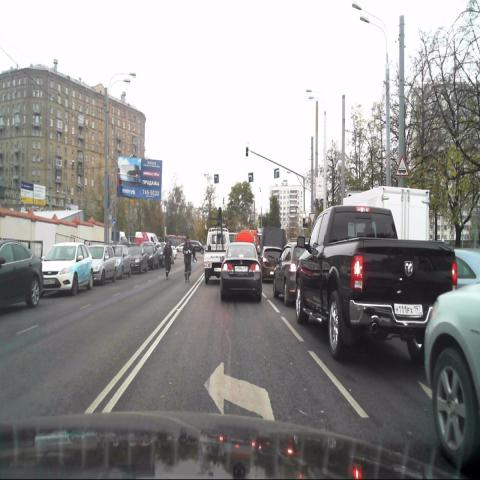1_5: (395, 154, 409, 176)
